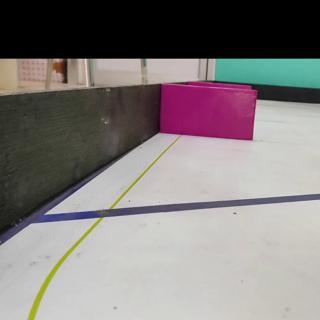xparking: (166, 87, 255, 138)
